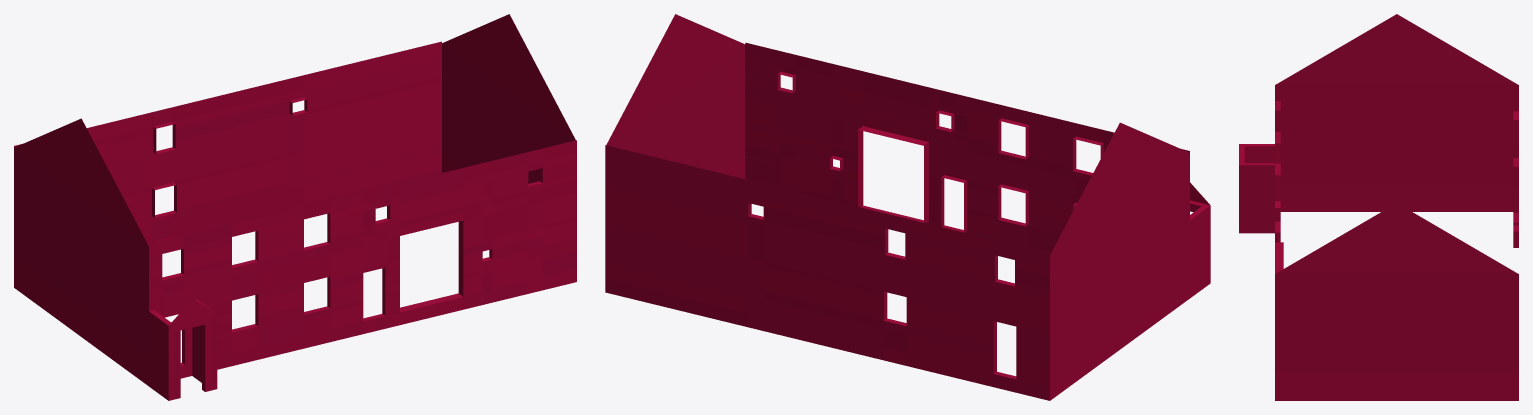
The model's file is SM_Bld_008_Masonry.glb.
3 views of the same model, side by side, from view 1: azimuth 30°, elevation 25°; view 2: azimuth 150°, elevation 25°; view 3: azimuth 270°, elevation 25° (orthographic). The views are drawn at different scales.
Visible parts, largest first — view 1: SM_Bld_008_Masonry; view 2: SM_Bld_008_Masonry; view 3: SM_Bld_008_Masonry.
Part boxes in pixels (left/top/right/bottom): SM_Bld_008_Masonry: left=14, top=14, right=576, bottom=400; SM_Bld_008_Masonry: left=605, top=14, right=1210, bottom=400; SM_Bld_008_Masonry: left=1239, top=14, right=1518, bottom=400.
Bounding box in the file's own units: 17.58 × 8.59 × 11.
